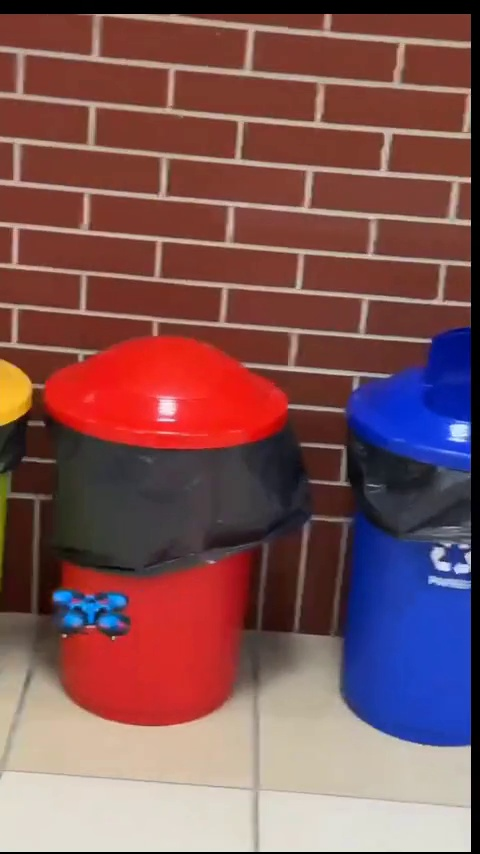drone: (54, 592, 132, 642)
